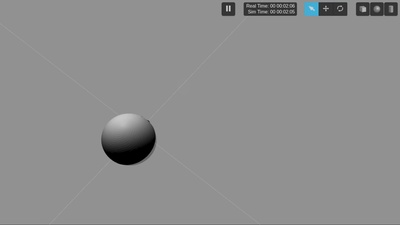mira_robot: (102, 113, 156, 165)
